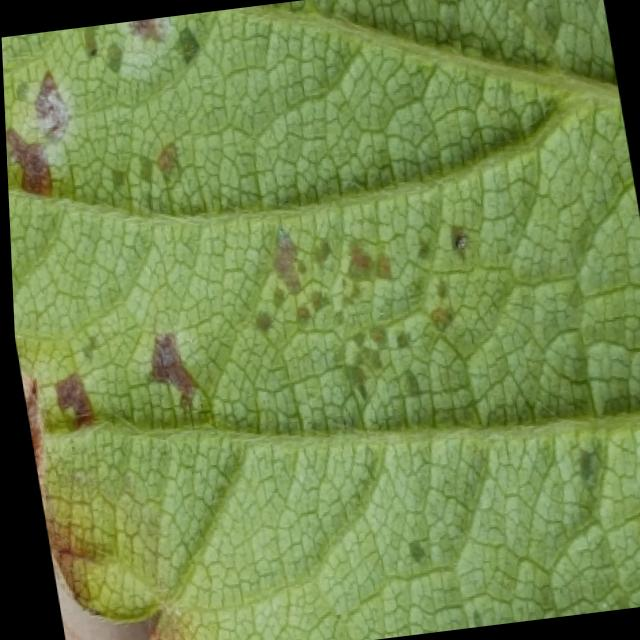Angular Leafspot: (1, 11, 640, 640)
